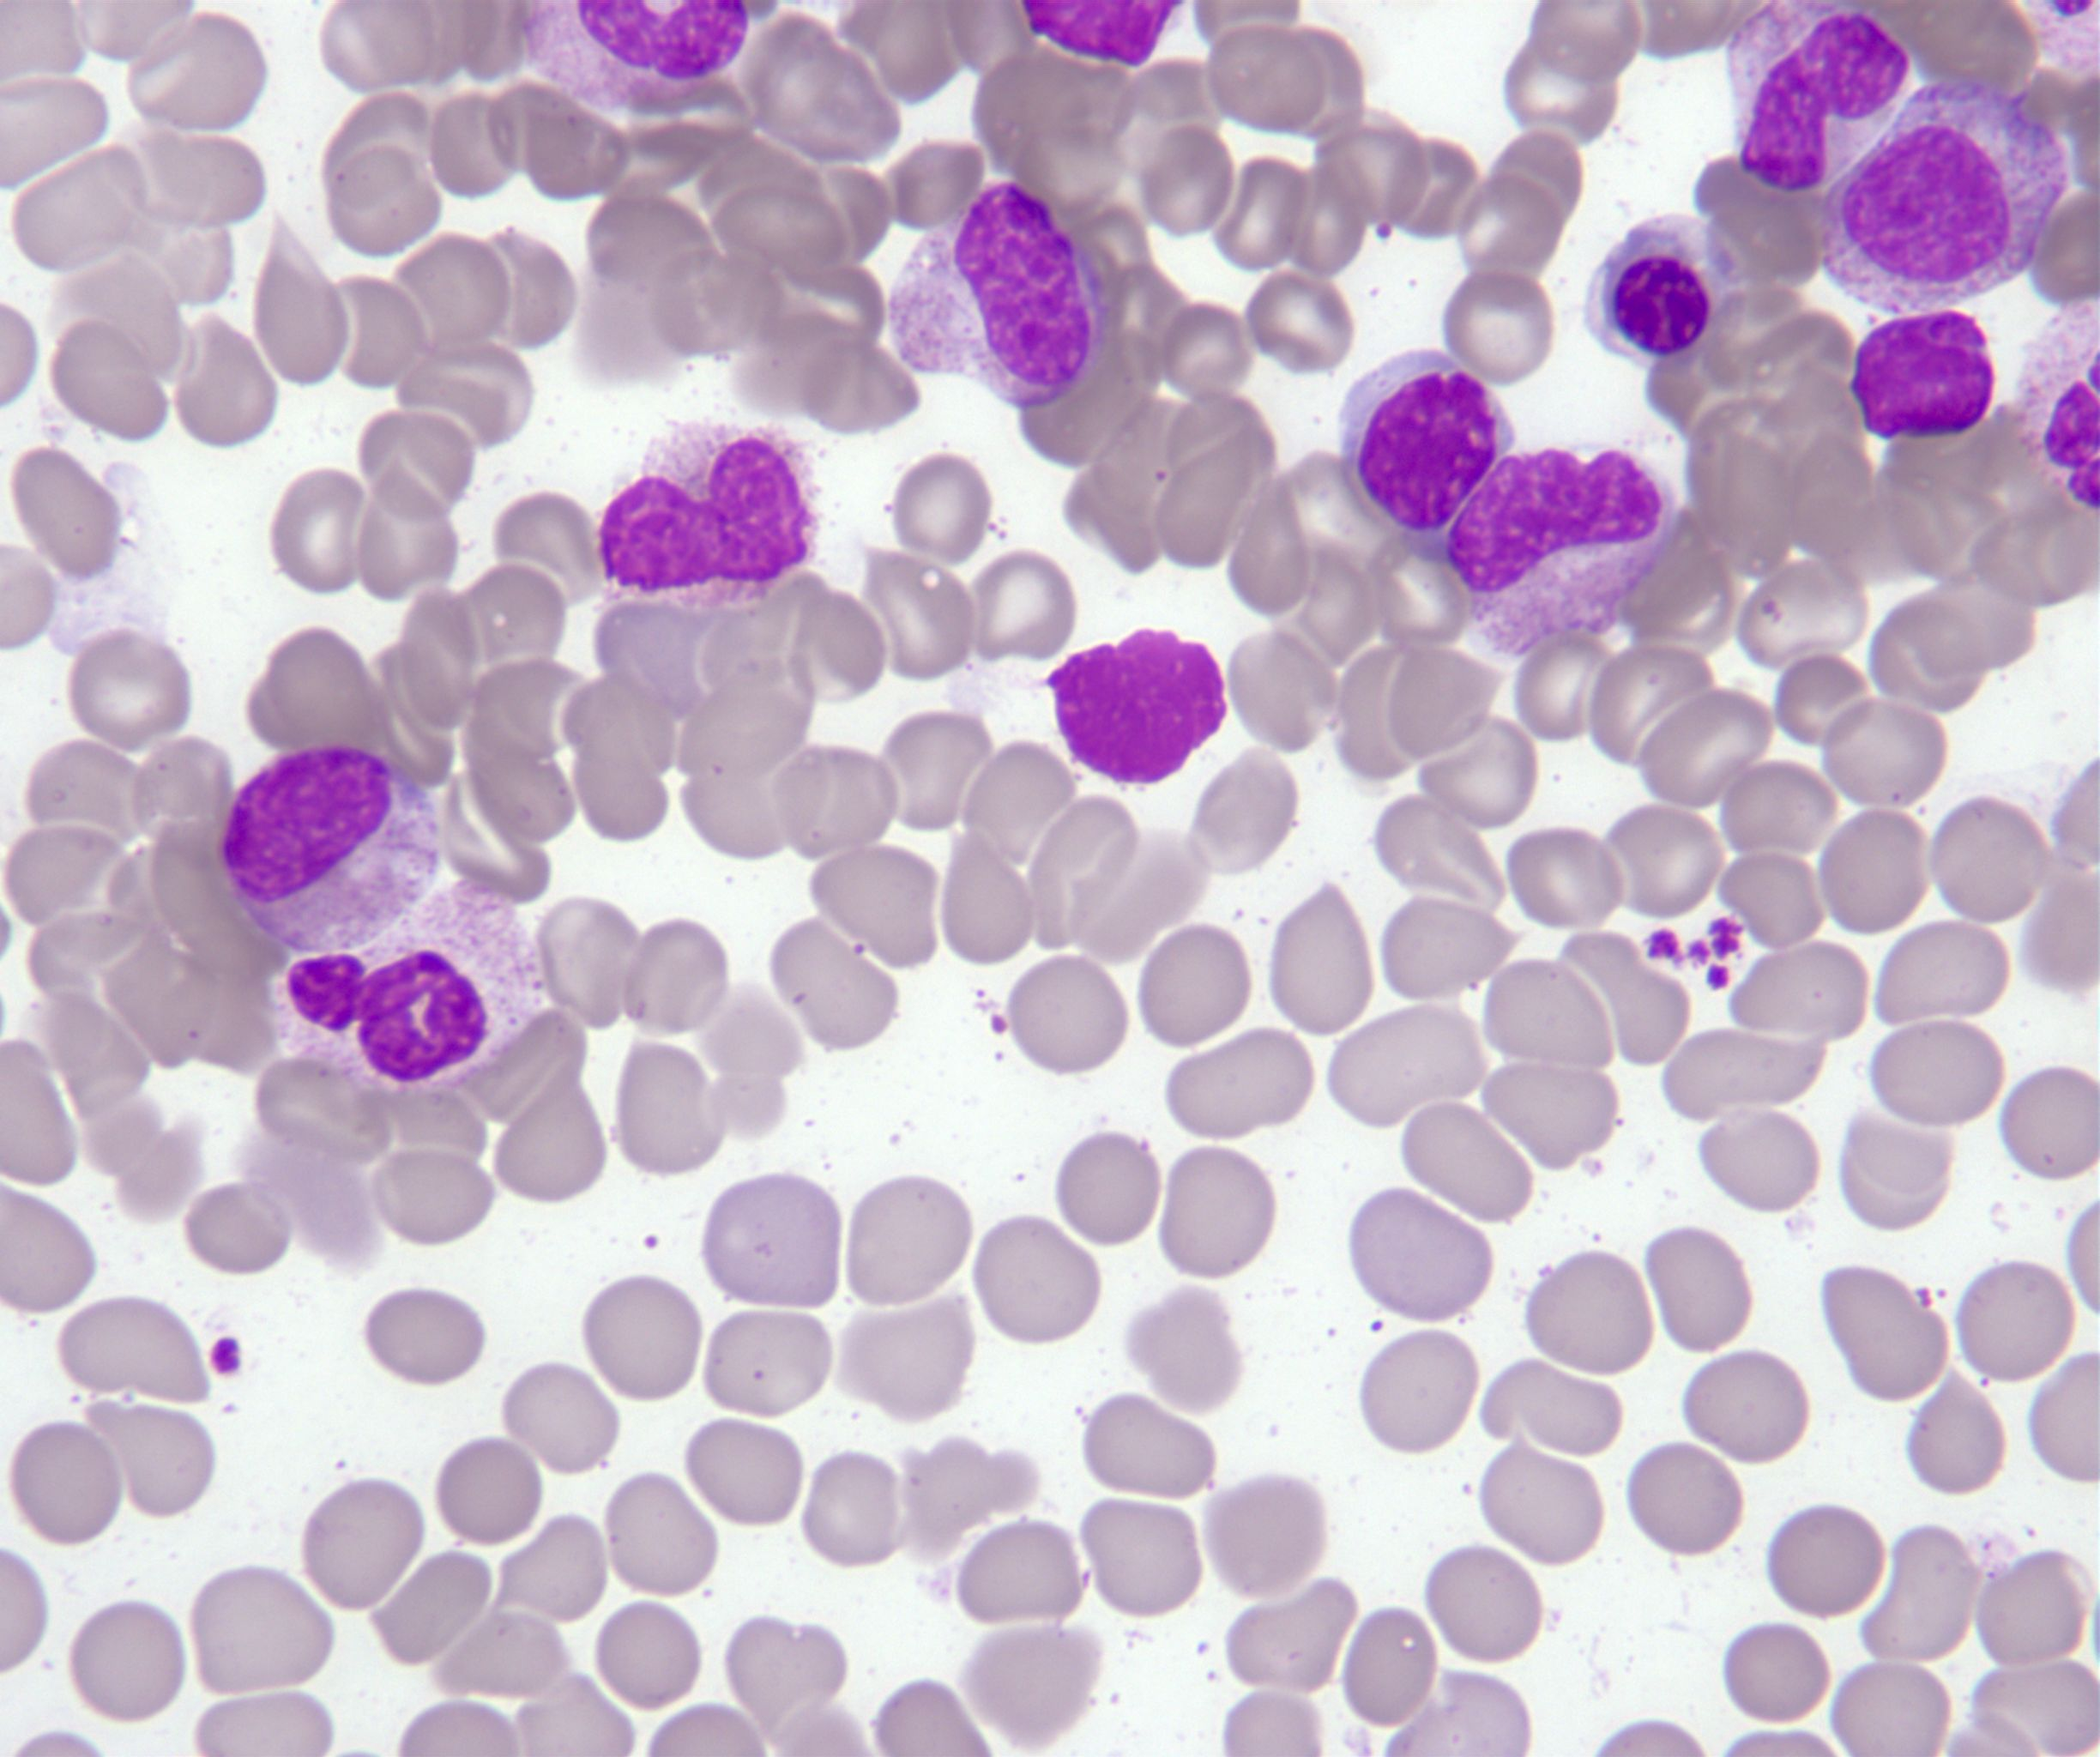23: (1333, 342, 1516, 543), (1577, 213, 1741, 370)
3: (1816, 84, 2074, 311)
32: (1844, 302, 2002, 452)
4: (1441, 445, 1685, 661), (888, 178, 1104, 415), (215, 742, 452, 953)
5: (267, 878, 548, 1096), (1722, 0, 1913, 195)
x: (590, 414, 825, 616), (1040, 621, 1230, 790)
